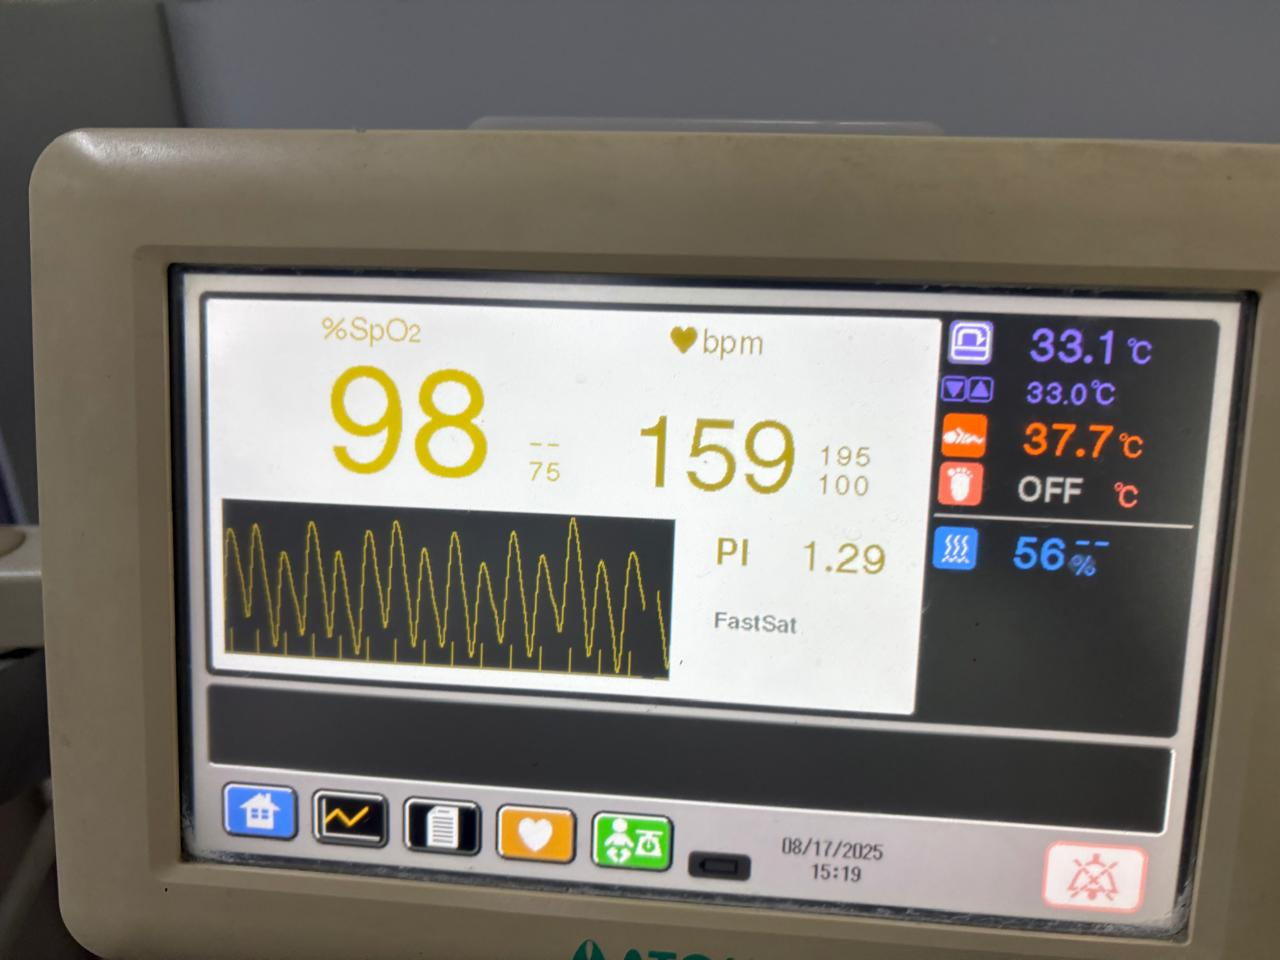heart_rate_value: (622, 401, 803, 504)
humidity_value: (995, 522, 1069, 583)
skin_temp_value: (1008, 407, 1117, 468)
spo2_value: (306, 354, 500, 497)
